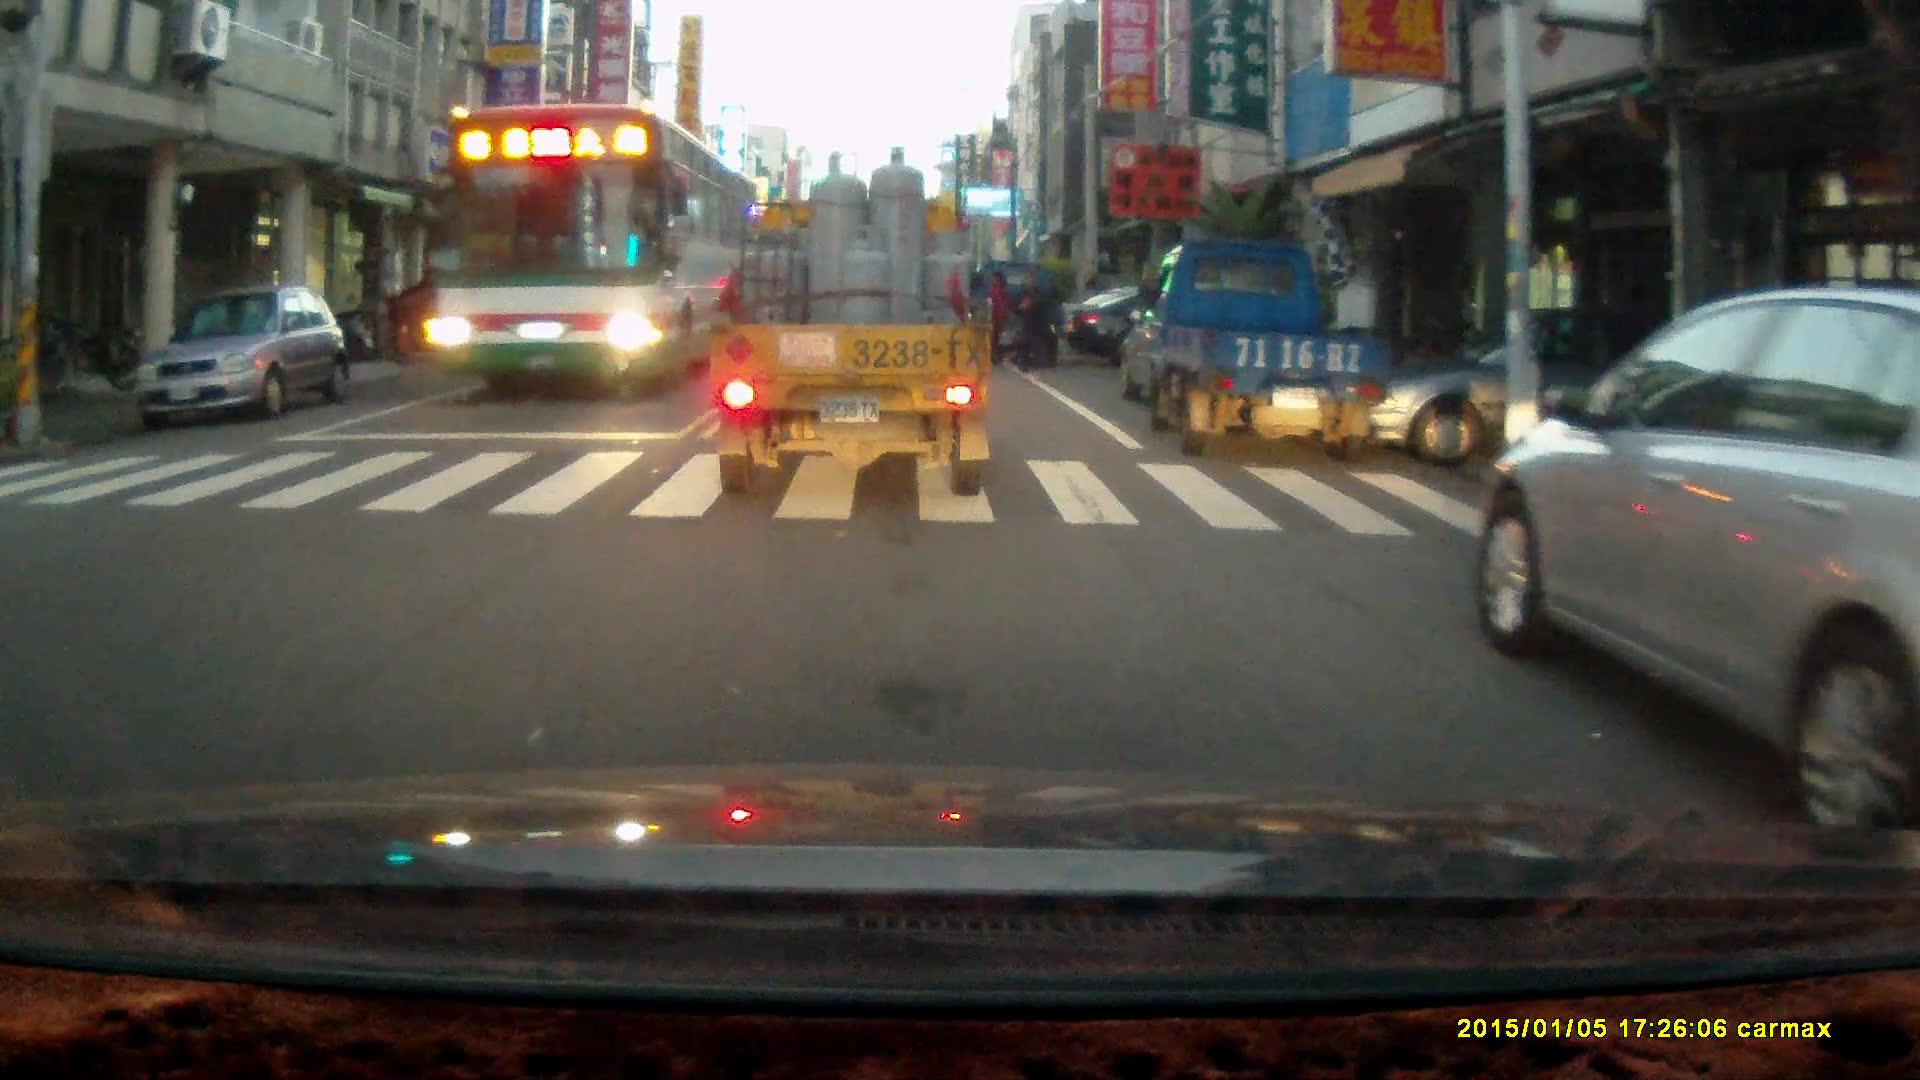pedestrian: (1009, 271, 1056, 382), (981, 268, 1010, 373)
vehicle: (1477, 284, 1920, 819), (707, 145, 998, 500), (428, 105, 753, 398), (1125, 235, 1390, 457), (1387, 333, 1699, 464), (133, 289, 350, 431), (338, 282, 536, 368), (971, 261, 1070, 372)
